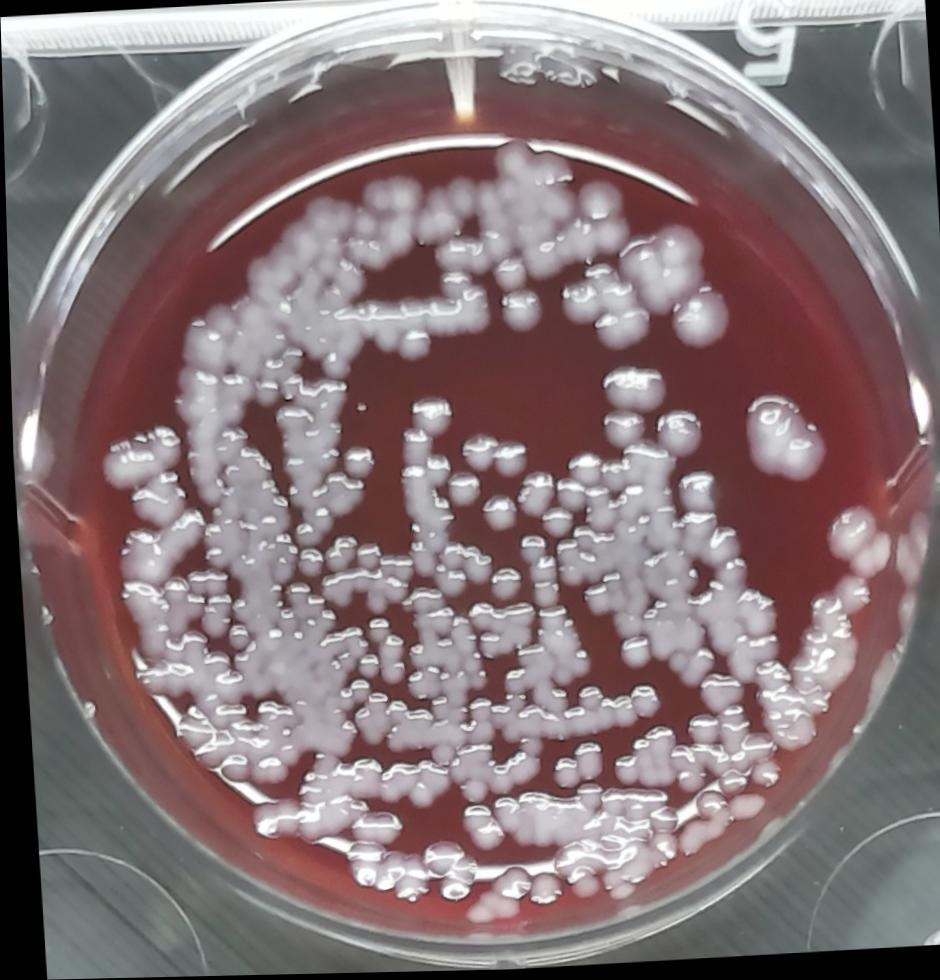smarcescens: (722, 387, 834, 498), (665, 284, 732, 360), (486, 434, 530, 486)
